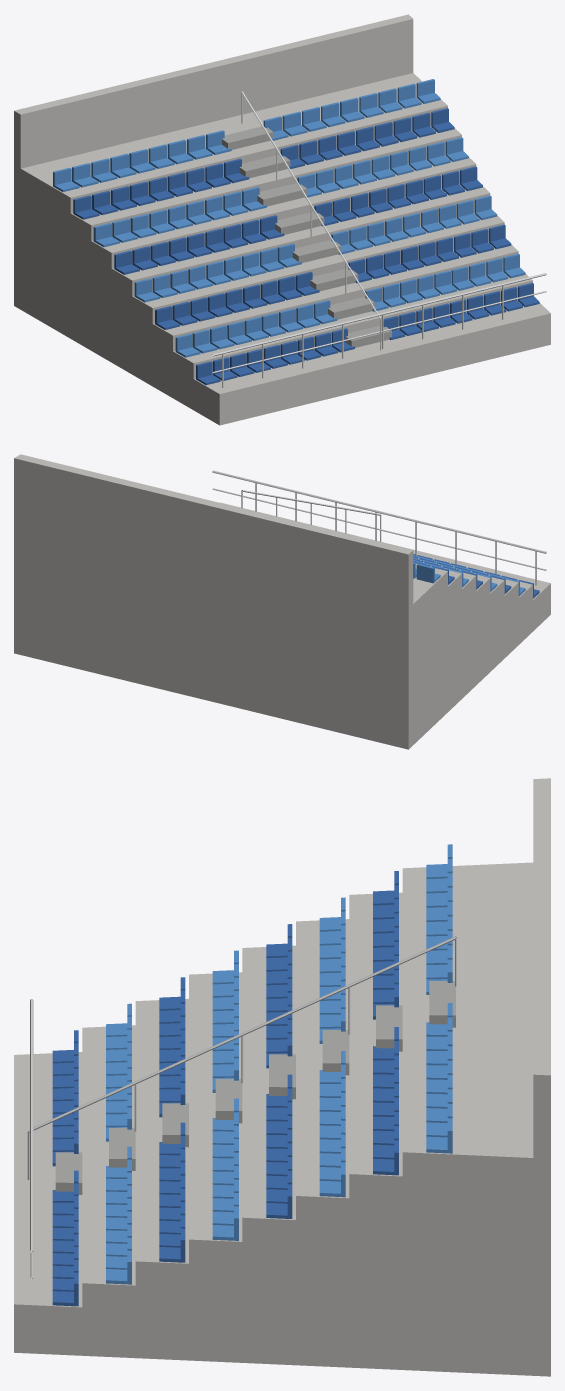
File: bay_10m_curve12.glb
The picture shows the model from 3 angles, top to bottom: view 1: azimuth 30°, elevation 25°; view 2: azimuth 150°, elevation 25°; view 3: azimuth 270°, elevation 25°; orthographic projection. The views are drawn at different scales.
Visible parts, largest first — view 1: bay_10m_curve12; view 2: bay_10m_curve12; view 3: bay_10m_curve12.
Part boxes in pixels (<box>): bay_10m_curve12: <box>14,14,550,425</box>; bay_10m_curve12: <box>14,454,550,749</box>; bay_10m_curve12: <box>14,778,550,1376</box>.
Size of the model in its own units: 11.85 by 5.6 by 9.05.
